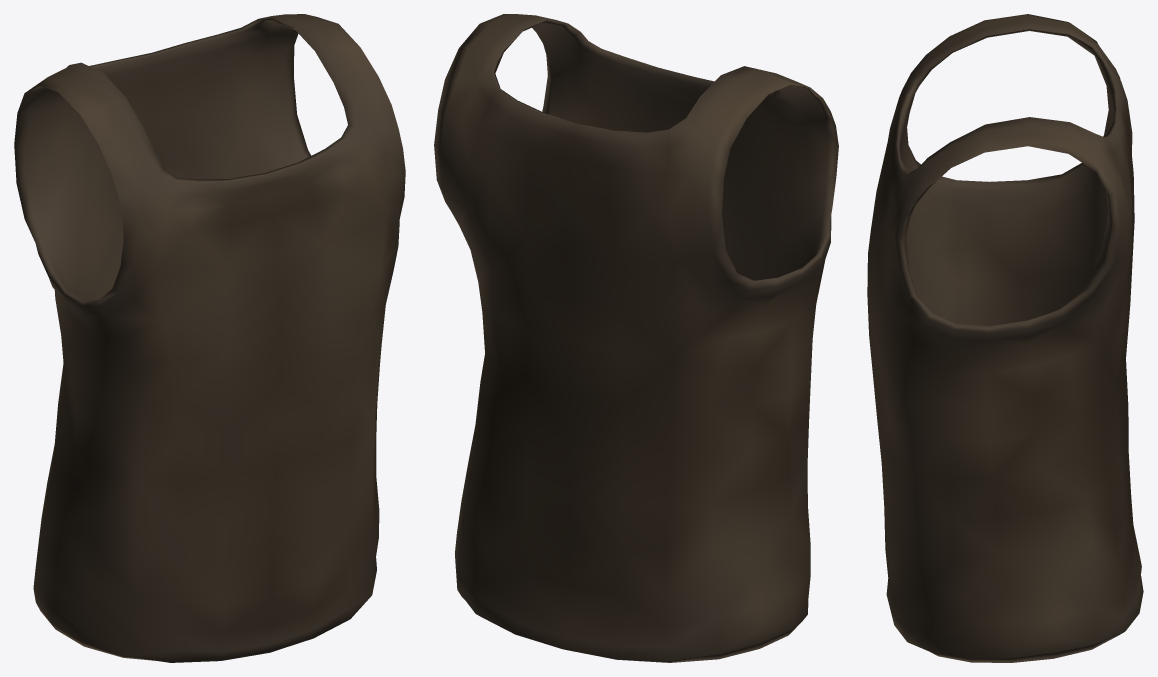
Rendered from Padded Vest_001.fbx.
3 views of the same model, side by side, from view 1: azimuth 30°, elevation 25°; view 2: azimuth 150°, elevation 25°; view 3: azimuth 270°, elevation 25° (orthographic). The views are drawn at different scales.
Parts seen in each view (by area): view 1: Padded_Vest; view 2: Padded_Vest; view 3: Padded_Vest.
Part boxes in pixels (left/top/right/bottom): Padded_Vest: left=14, top=14, right=405, bottom=662; Padded_Vest: left=434, top=14, right=838, bottom=662; Padded_Vest: left=867, top=14, right=1143, bottom=662.
Size of the model in its own units: 31.95 by 53.84 by 25.31.
